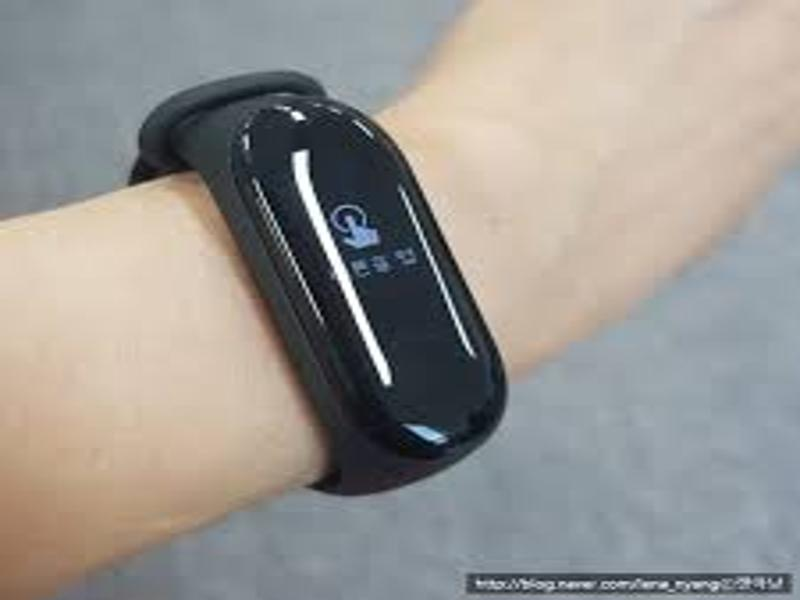watch: (131, 65, 508, 498)
